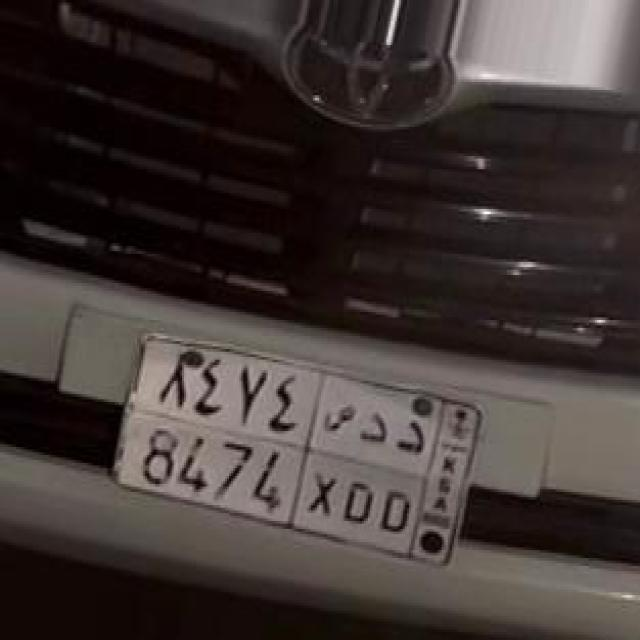Car-plate: (95, 293, 504, 597)
